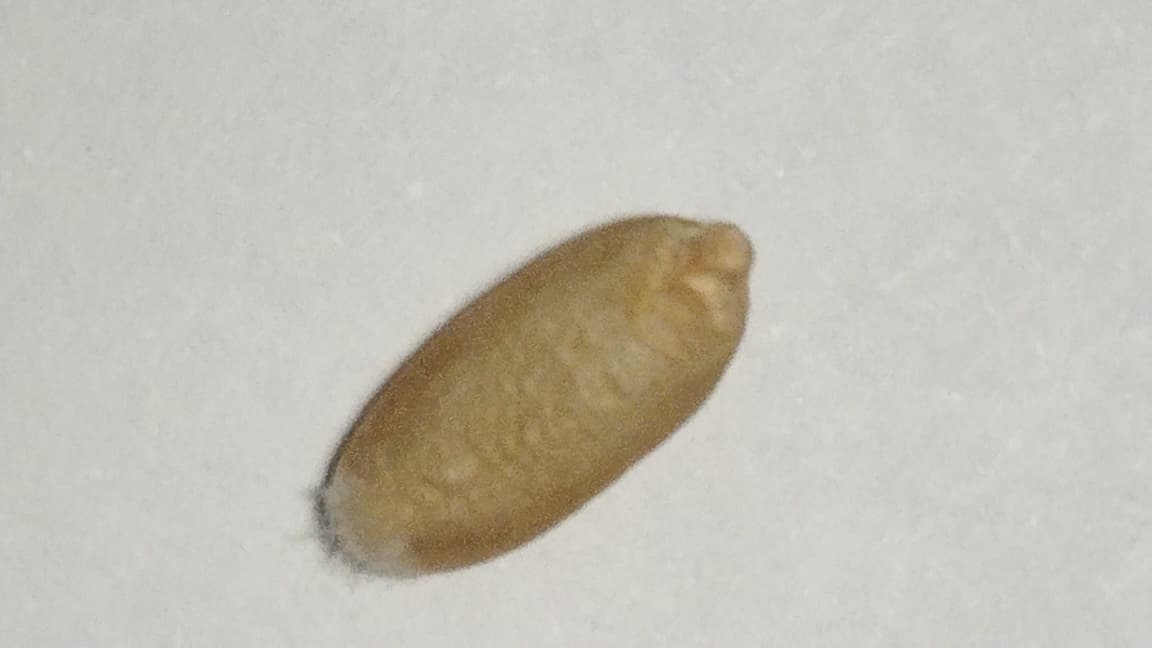healthy: (318, 214, 752, 579)
